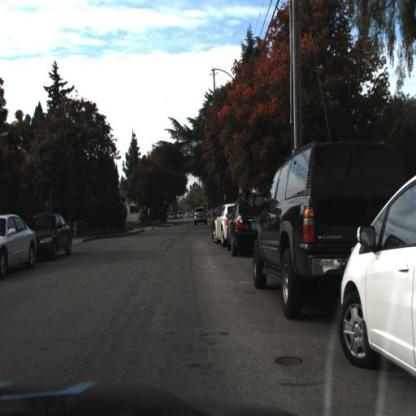car: (249, 136, 401, 315), (341, 174, 416, 385), (28, 208, 76, 268), (225, 191, 265, 262), (2, 214, 36, 280), (30, 212, 74, 261), (194, 204, 210, 230)
